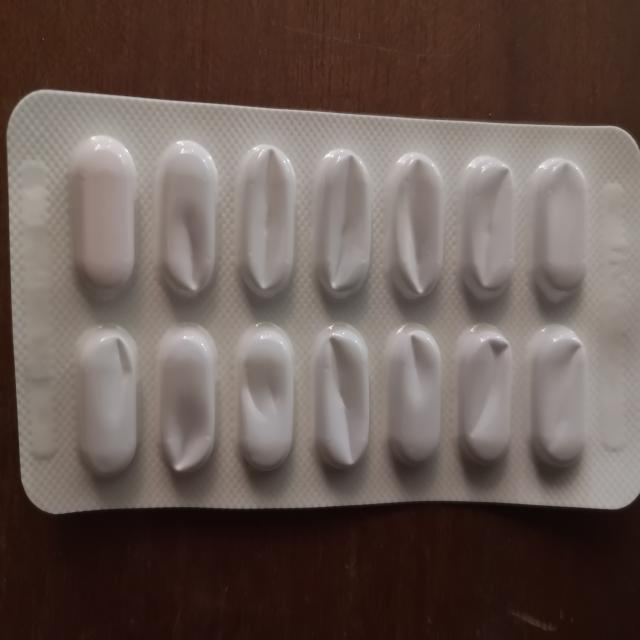Empty: (148, 317, 225, 484), (72, 315, 143, 480), (231, 313, 298, 485), (230, 139, 300, 300), (151, 136, 220, 298), (526, 319, 592, 487), (379, 314, 445, 480), (310, 140, 376, 305), (452, 320, 520, 478), (312, 315, 376, 482), (530, 147, 593, 312), (457, 147, 522, 306), (384, 146, 448, 306)
Pill: (67, 128, 142, 298)
